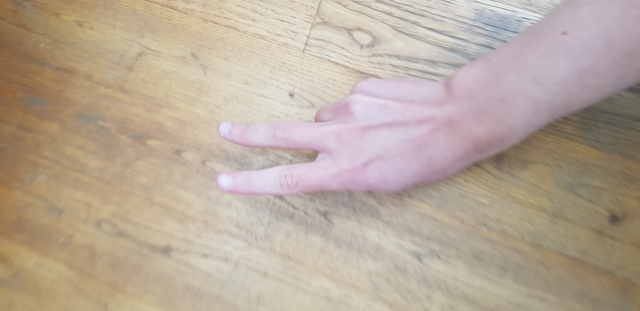Scissors: (199, 66, 498, 221)
